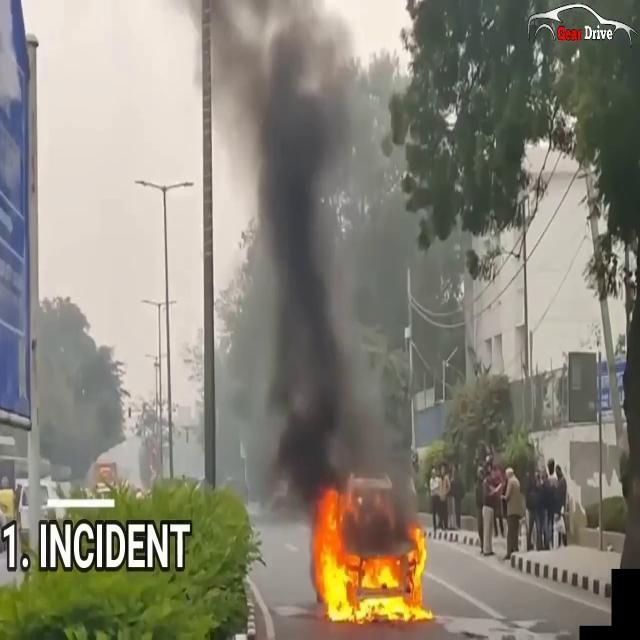Fire: (308, 484, 434, 630)
Smoke: (210, 0, 437, 508)
